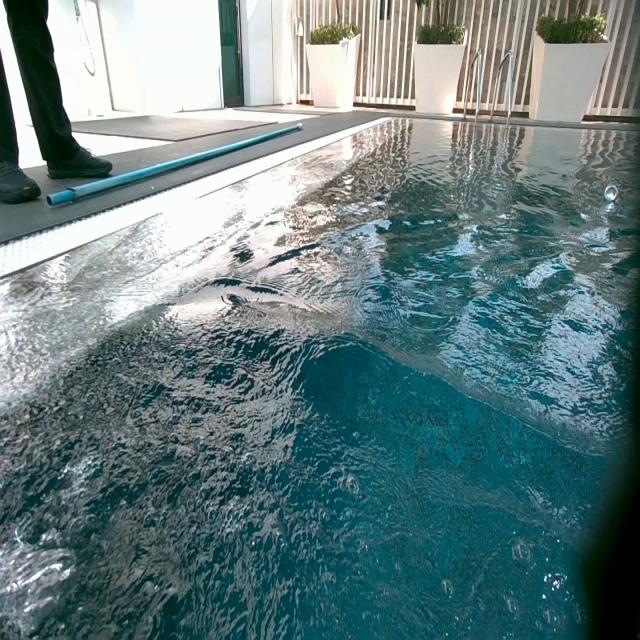Cans: (603, 183, 619, 205)
